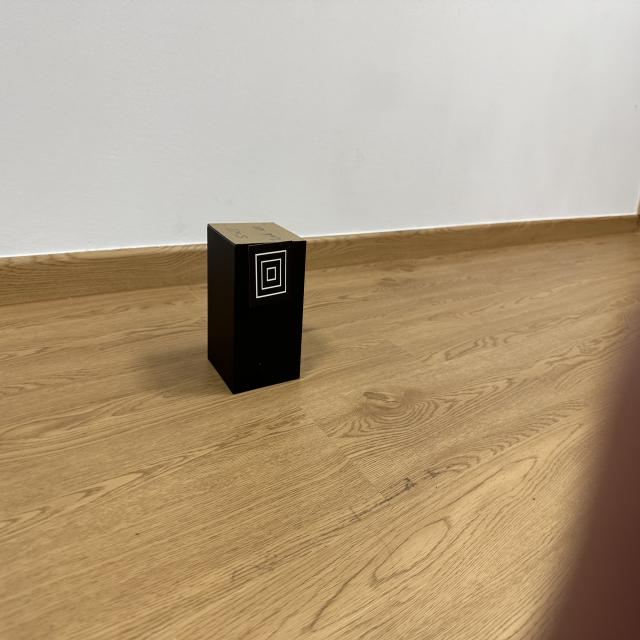BULLSEYE: (248, 240, 292, 309)
